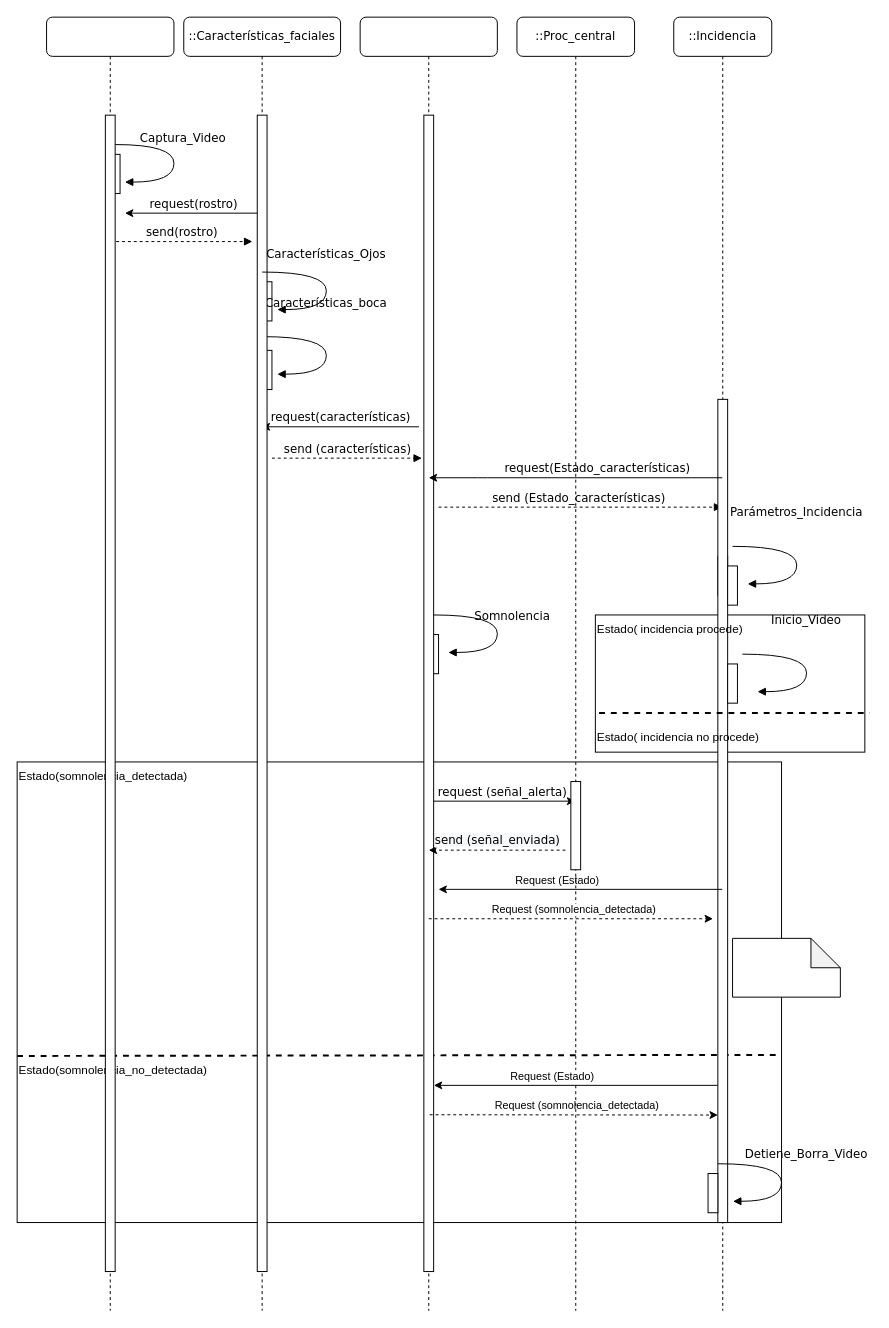
This 889x1328 diagram has some shape labels left out. The box of each missing label's shape, as (x1, y1, x2, y2) in pixels:
::Detección_Rostro: (46, 16, 174, 1311)
::Detección_Somnolencia: (359, 16, 497, 1311)
Video continua grabando: (732, 937, 840, 997)
